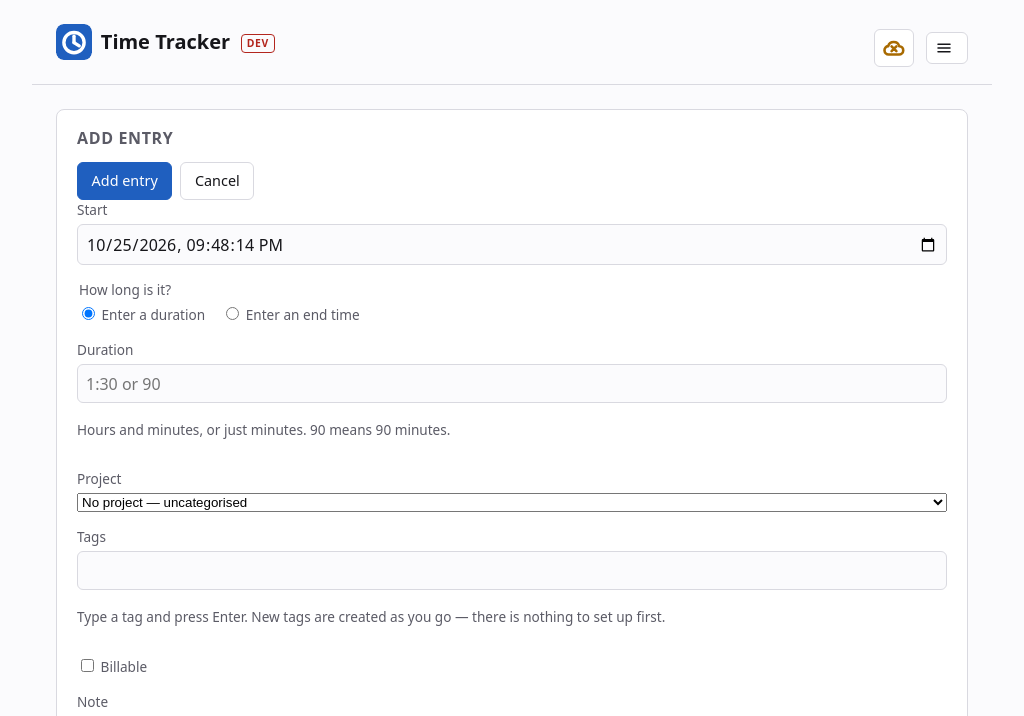
it: manual entry (0004 M1–M4) › previews the parsed duration before saving
The image size is (1024, 716).
Type "45" into the field labelled "Duration" at (512, 384), box [77,364,947,403]
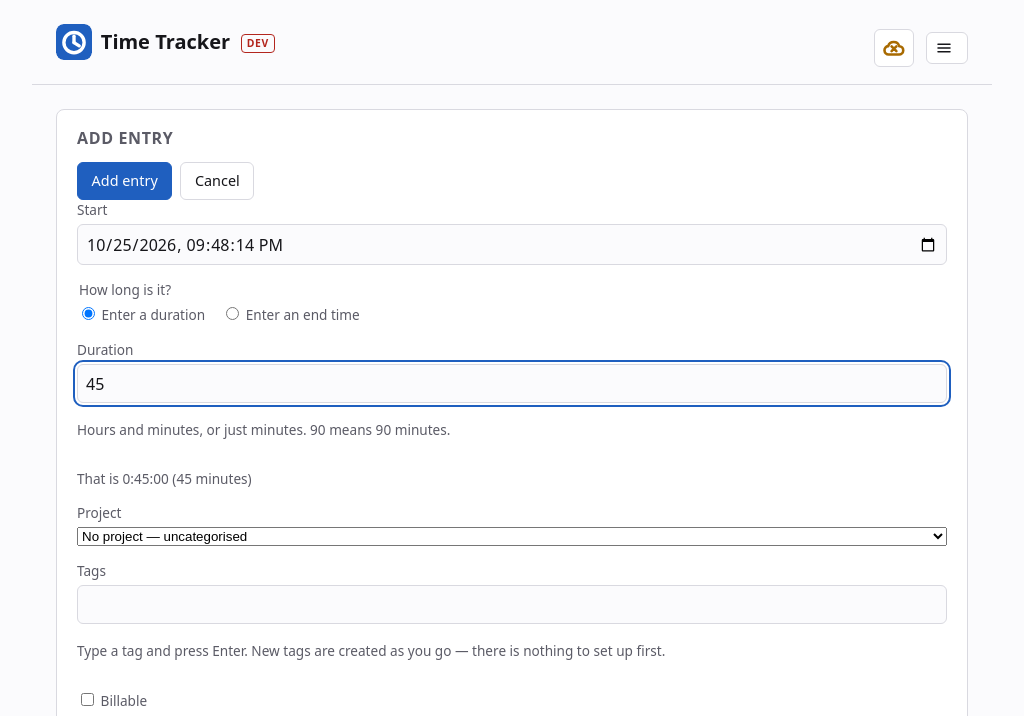
Now the text with test id "duration-preview" shows "45 minutes", box [169,469,252,488]
